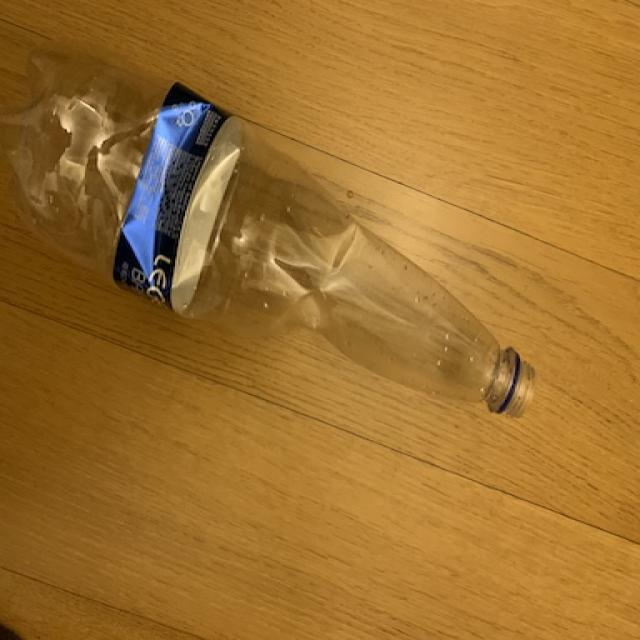Waste: (7, 49, 533, 416)
